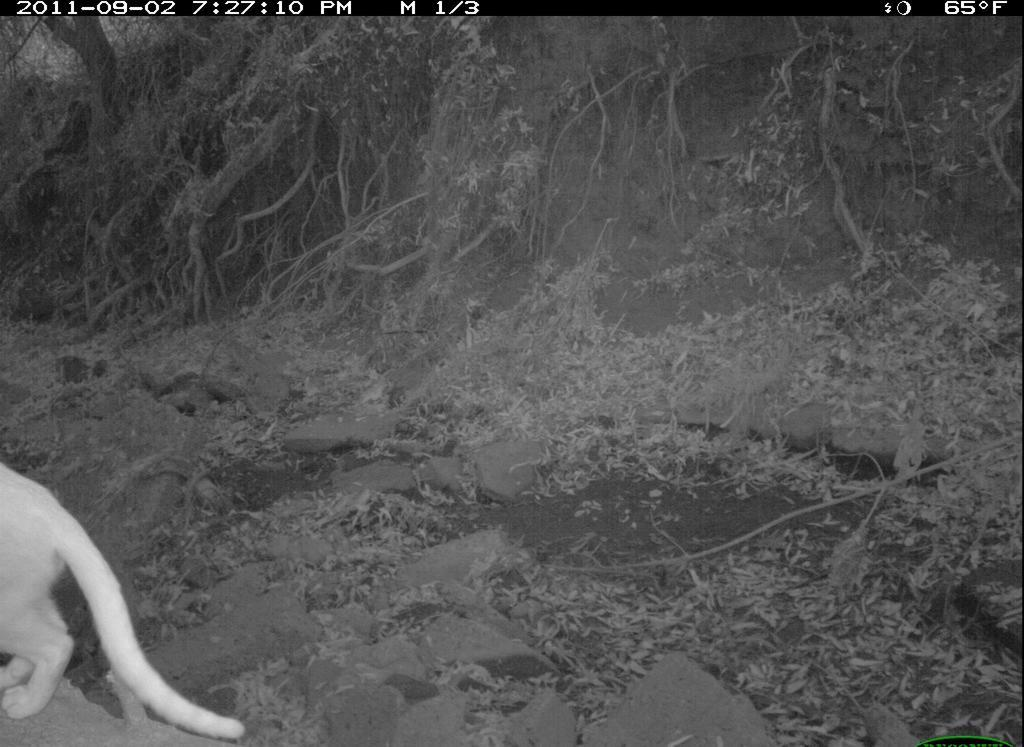cat: (1, 443, 260, 744)
